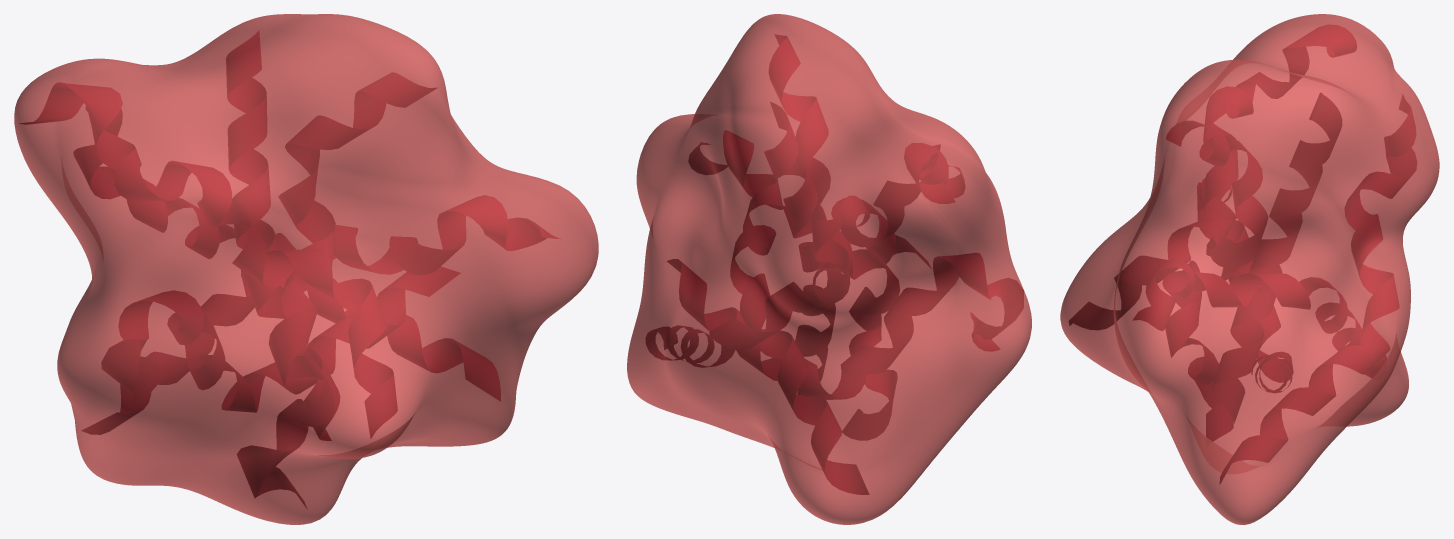
File: LigaseIVmodel_v2.fbx
3 renders of one model, left to right at view 1: azimuth 30°, elevation 25°; view 2: azimuth 150°, elevation 25°; view 3: azimuth 270°, elevation 25°, orthographic. The views are drawn at different scales.
Visible parts, largest first — view 1: Surface, AlphaHelix.004, AlphaHelix.003, AlphaHelix.001, AlphaHelix.002, AlphaHelix, AlphaHelix.005; view 2: Surface, AlphaHelix.001, AlphaHelix.002, AlphaHelix.003, AlphaHelix.005, AlphaHelix.004, AlphaHelix; view 3: Surface, AlphaHelix.005, AlphaHelix.004, AlphaHelix, AlphaHelix.003, AlphaHelix.002, AlphaHelix.001.
Boxes of the visible parts, x1,y1,x2,y2 form: Surface: (14, 14, 598, 524); AlphaHelix.004: (20, 82, 397, 438); AlphaHelix.003: (237, 72, 436, 508); AlphaHelix.001: (101, 267, 460, 412); AlphaHelix.002: (81, 195, 559, 434); AlphaHelix: (226, 31, 339, 440); AlphaHelix.005: (73, 106, 500, 401); Surface: (627, 14, 1031, 524); AlphaHelix.001: (667, 253, 1023, 399); AlphaHelix.002: (688, 130, 868, 494); AlphaHelix.003: (769, 34, 899, 440); AlphaHelix.005: (645, 215, 849, 367); AlphaHelix.004: (831, 143, 965, 268); AlphaHelix: (764, 102, 836, 394); Surface: (1060, 14, 1439, 524); AlphaHelix.005: (1220, 94, 1416, 483); AlphaHelix.004: (1069, 24, 1356, 329); AlphaHelix: (1212, 93, 1341, 423); AlphaHelix.003: (1165, 121, 1267, 441); AlphaHelix.002: (1132, 259, 1386, 377); AlphaHelix.001: (1197, 178, 1293, 392).
Size of the model in its own units: 466 by 451 by 371.
